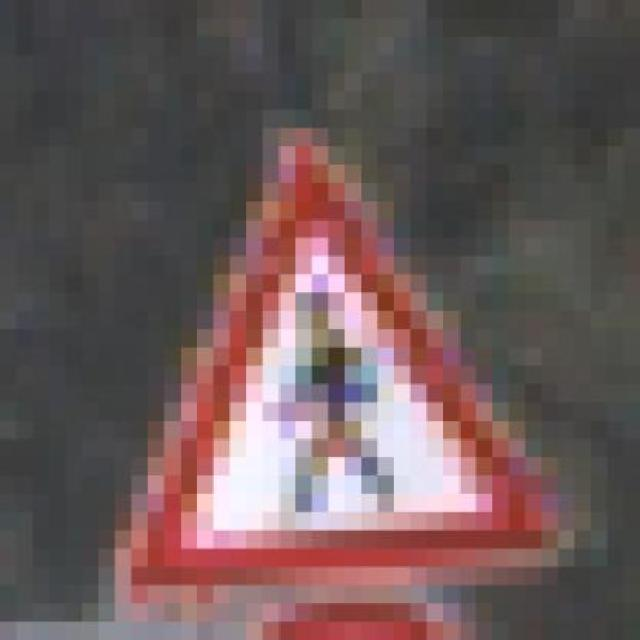Pedestrian Crossing: (66, 128, 574, 586)
